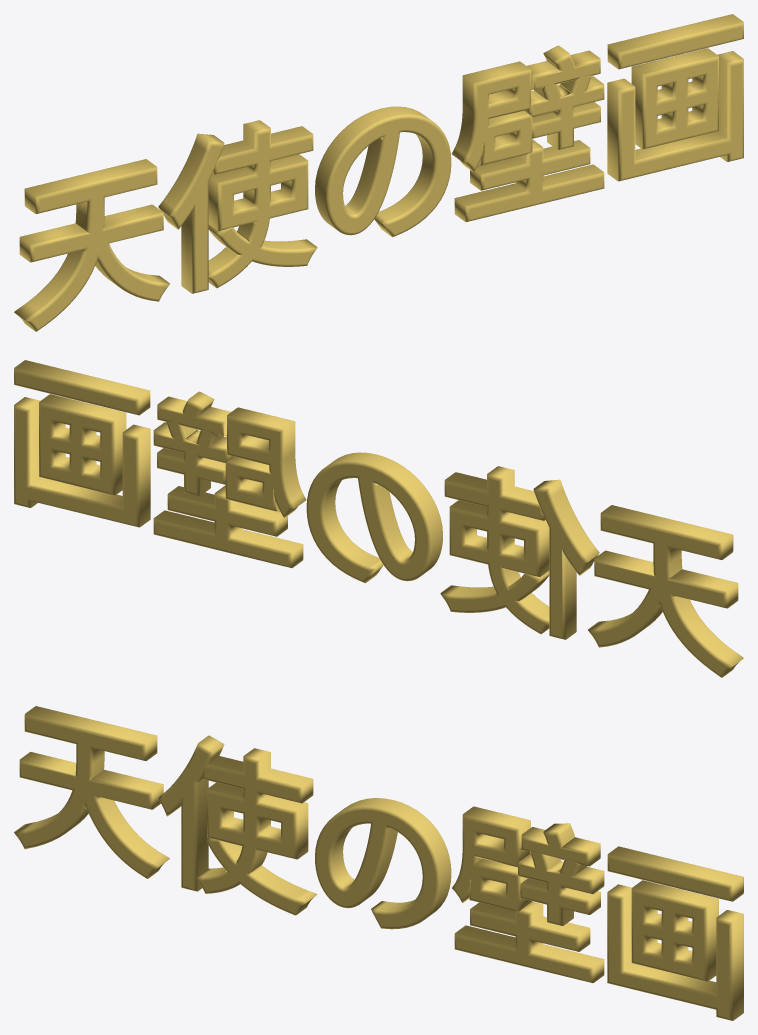
Rendered from Atitle.glb.
The picture shows the model from 3 angles, top to bottom: view 1: azimuth 30°, elevation 25°; view 2: azimuth 150°, elevation 25°; view 3: azimuth 330°, elevation 25°; orthographic projection.
Visible parts, largest first — view 1: テキスト; view 2: テキスト; view 3: テキスト.
Boxes of the visible parts, x1,y1,x2,y2 form: テキスト: (14, 14, 743, 331); テキスト: (14, 360, 743, 677); テキスト: (14, 706, 743, 1020).
Bounding box in the file's own units: 4.92 × 0.9742 × 0.16.
